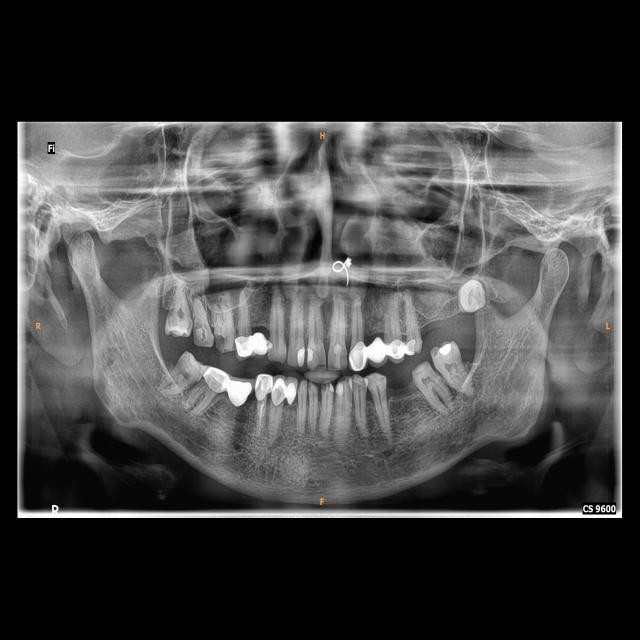dentin-curugu: (212, 332, 228, 351)
dolgu: (294, 344, 306, 366), (406, 336, 418, 356), (440, 340, 452, 357), (306, 345, 316, 361), (346, 377, 355, 392), (326, 381, 336, 394), (334, 381, 343, 393), (360, 376, 370, 386)
kaplama: (202, 367, 227, 390), (272, 373, 287, 405), (348, 342, 366, 368), (386, 336, 404, 362), (235, 333, 253, 356), (253, 375, 270, 397)
kopru: (226, 376, 252, 412), (283, 372, 298, 408), (253, 327, 269, 358)
